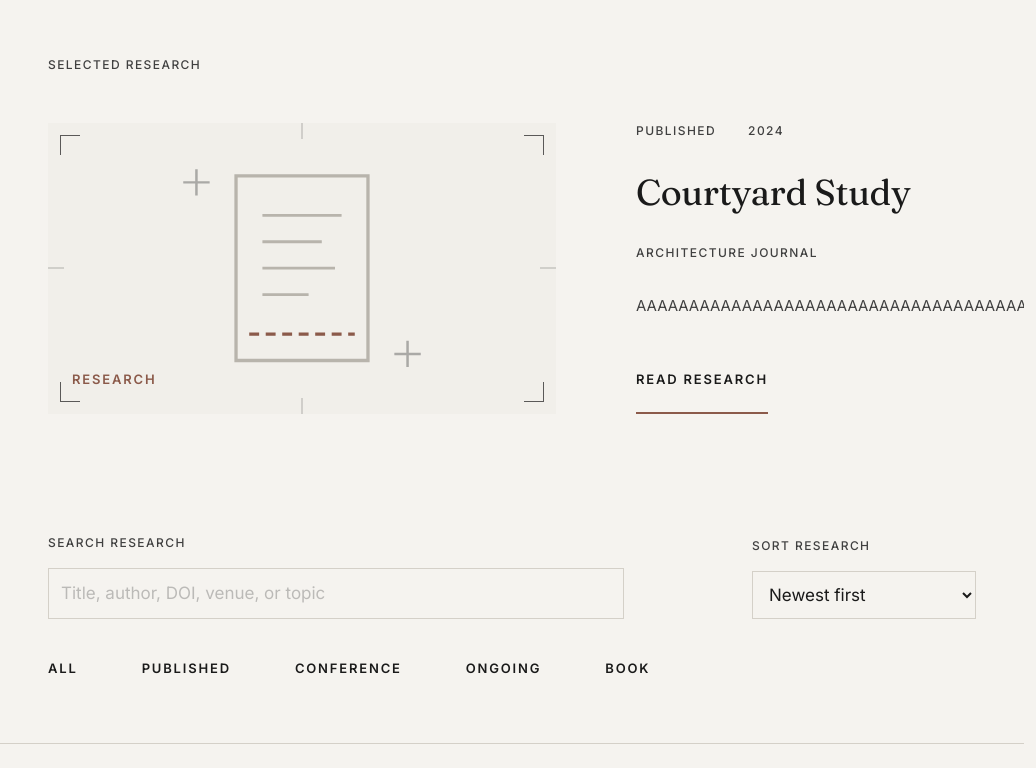
Test: ResearchStudio › requests filtered results and keeps the category in the URL
The image size is (1036, 768).
Click the button "Conference". click: click(348, 669)
box: [295,643,402,695]
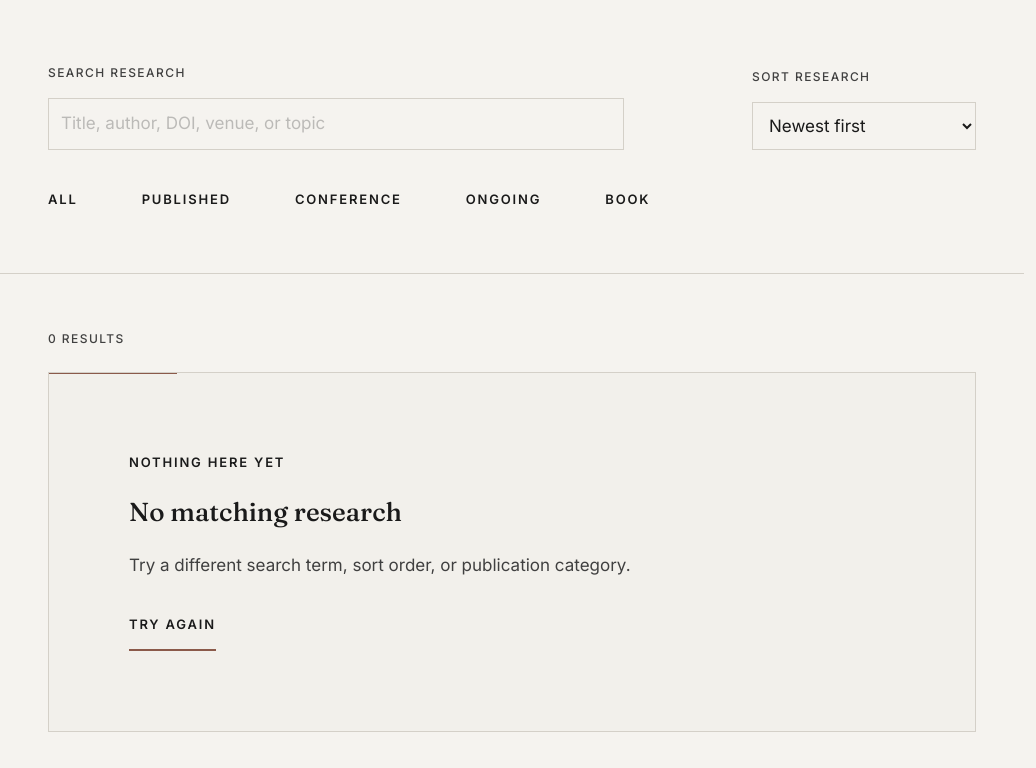
Expected: the heading "No matching research" is shown, [129,496,402,528]
